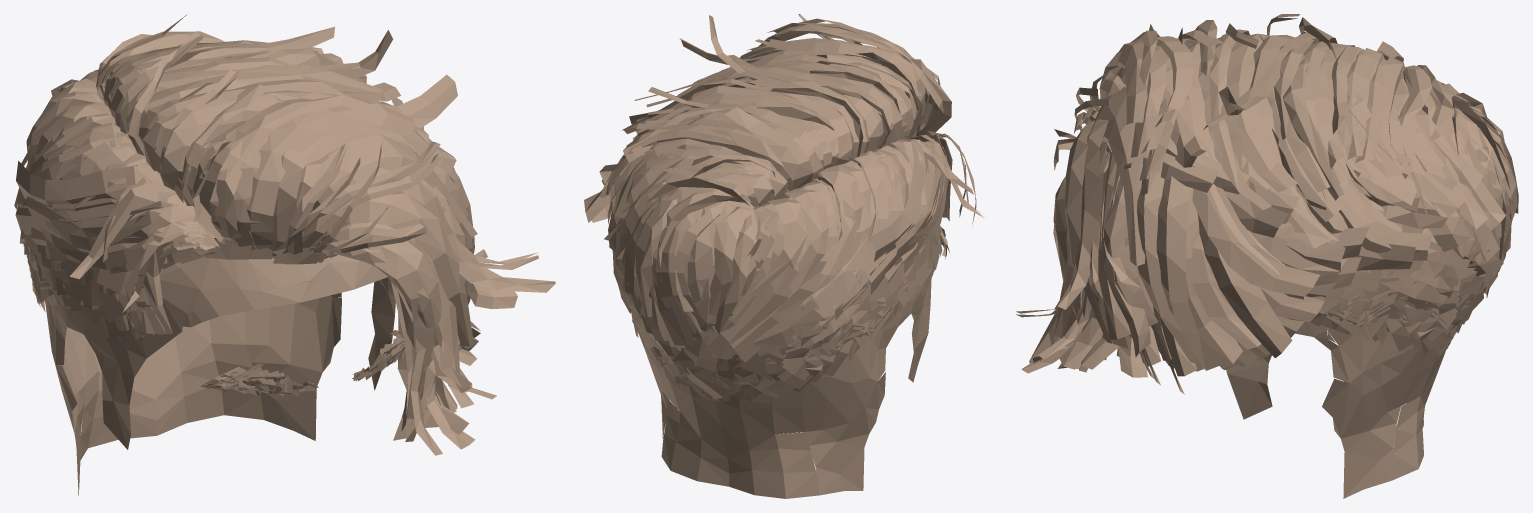
The model's file is male_hair_05_lod0.glb.
3 renders of one model, left to right at view 1: azimuth 30°, elevation 25°; view 2: azimuth 150°, elevation 25°; view 3: azimuth 270°, elevation 25°, orthographic. The views are drawn at different scales.
Visible parts, largest first — view 1: hair_05; view 2: hair_05; view 3: hair_05.
Part boxes in pixels (x1=…): hair_05: x1=14, y1=14, x2=555, y2=495; hair_05: x1=584, y1=14, x2=983, y2=498; hair_05: x1=1016, y1=14, x2=1518, y2=498.
Size of the model in its own units: 0.1946 by 0.208 by 0.2278.
